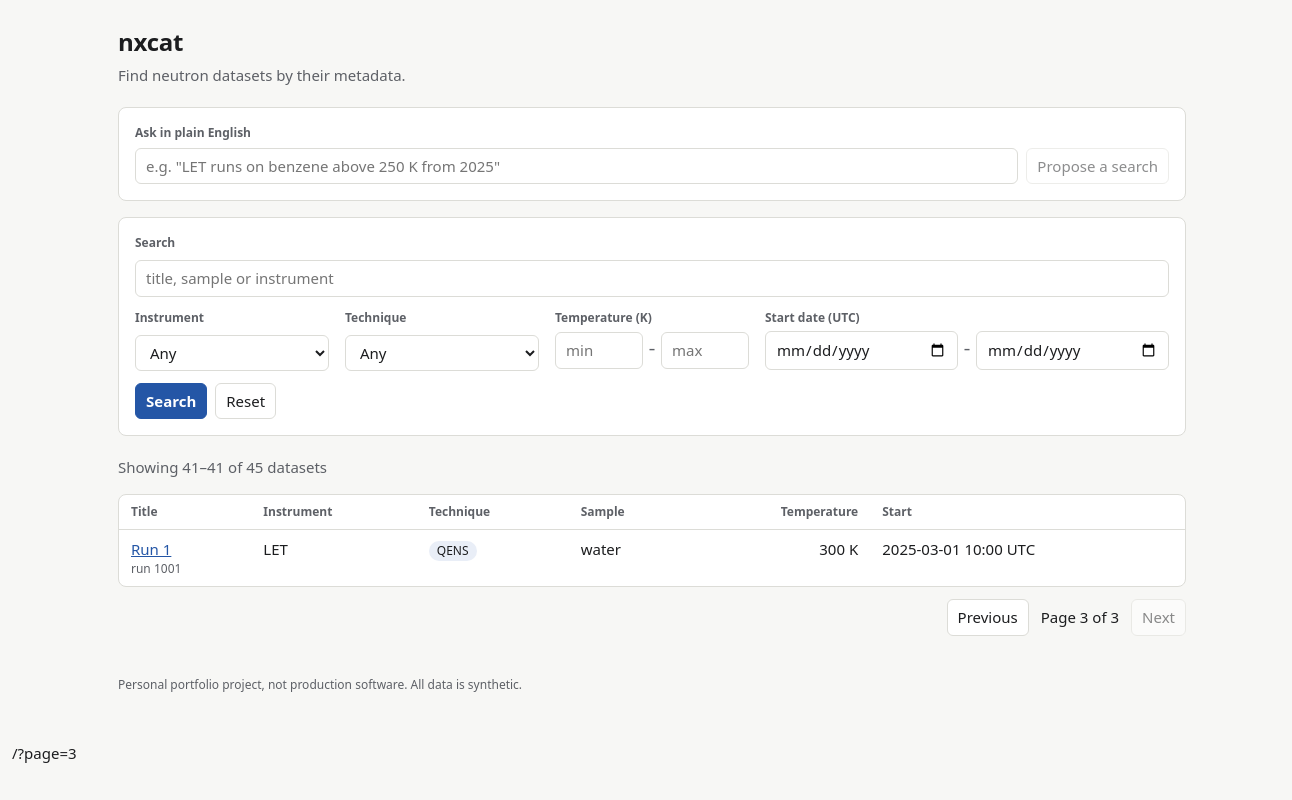
SearchPage › a new search starts again at page 1
Expected: the text "Page 3 of 3" is shown, x1=1041 y1=606 x2=1119 y2=628
Click the button "Search" at (171,401), box x1=135 y1=382 x2=207 y2=419
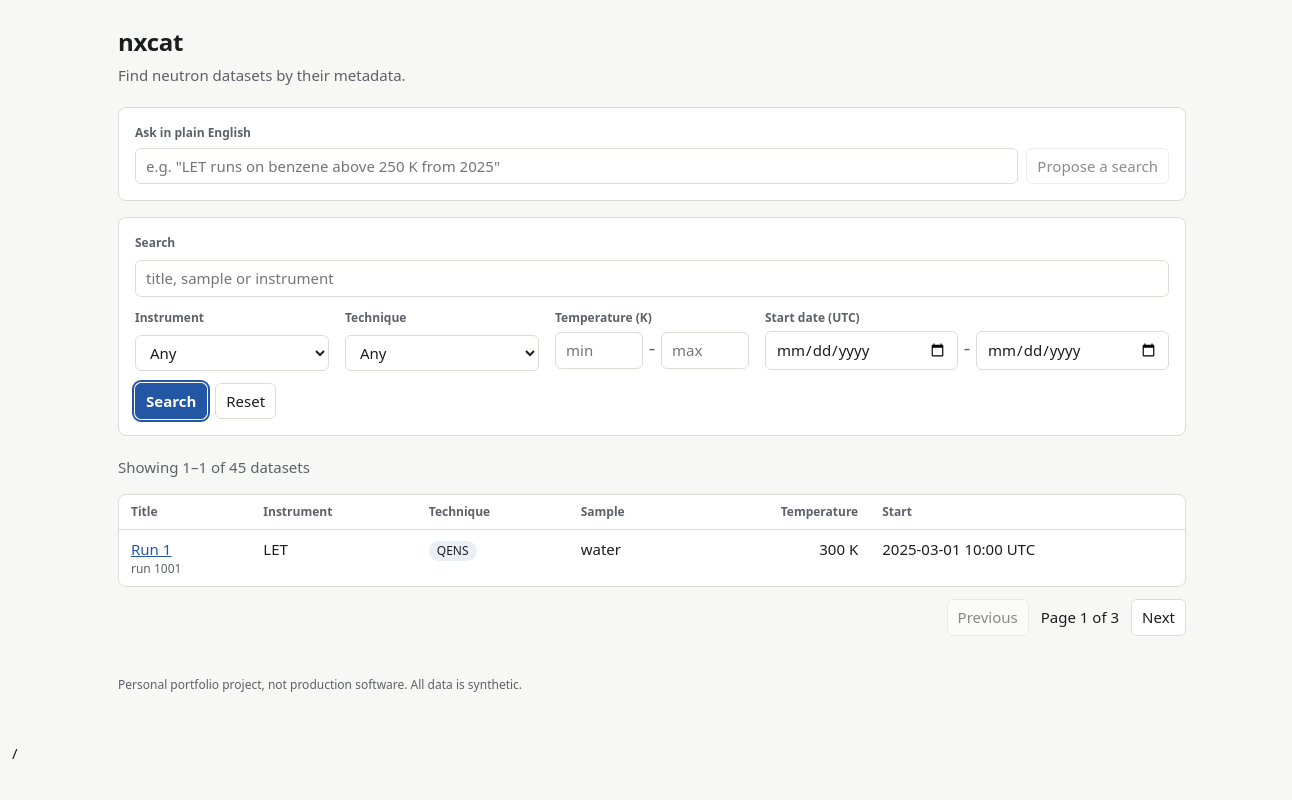
Expected: the text with test id "address" reads "/", x1=12 y1=742 x2=18 y2=762
Expected: the text "Page 1 of 3" is shown, x1=1041 y1=606 x2=1119 y2=628
